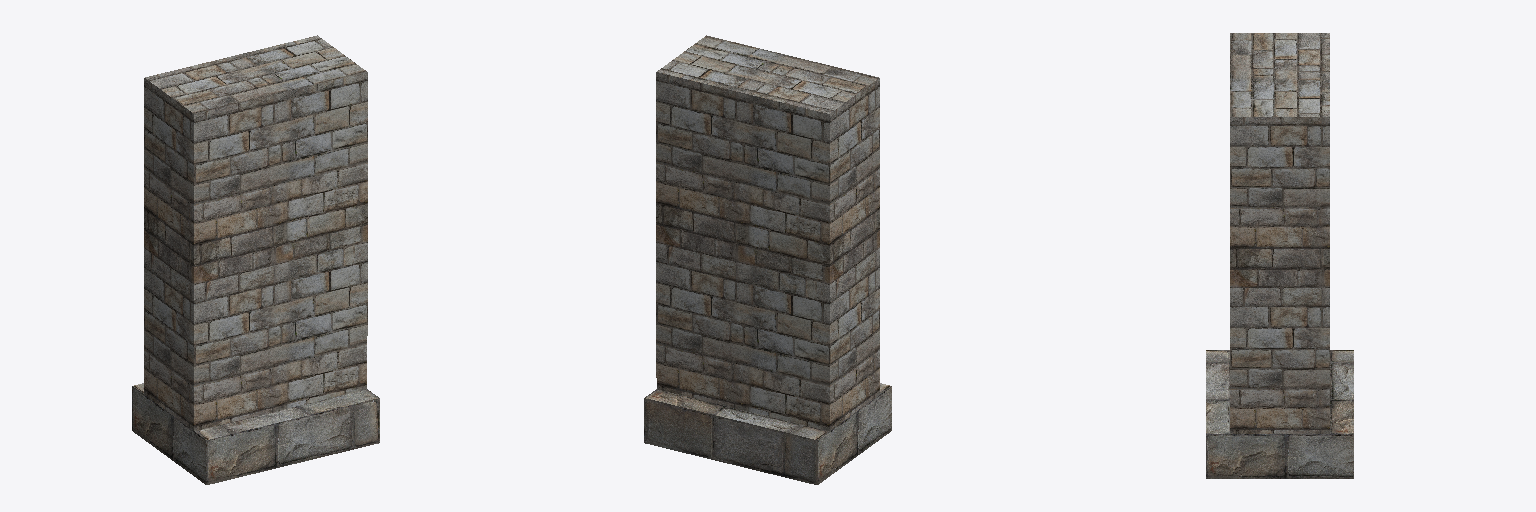
3 views of the same model, side by side, from view 1: azimuth 30°, elevation 25°; view 2: azimuth 150°, elevation 25°; view 3: azimuth 270°, elevation 25° (orthographic).
Size of the model in its own units: 100 by 200 by 74.2.
Materials: 2 (2 with a texture image).